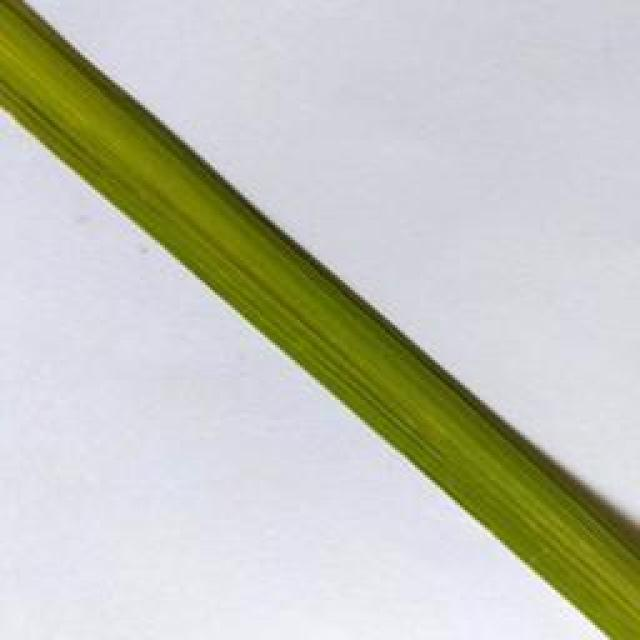Healthy-Plant: (83, 193, 368, 309), (322, 399, 584, 521), (210, 296, 469, 408), (447, 506, 640, 640), (0, 0, 171, 143), (10, 124, 255, 210)
